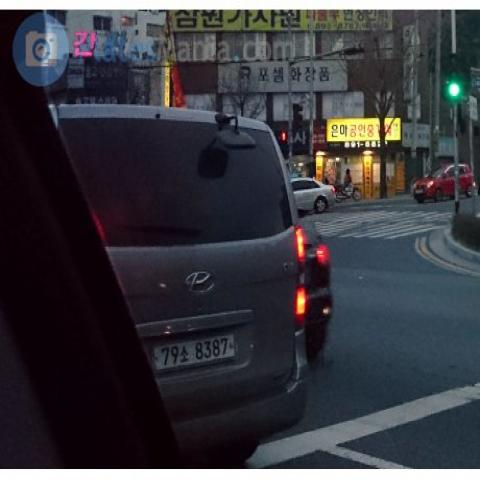LP: (145, 325, 244, 375)
